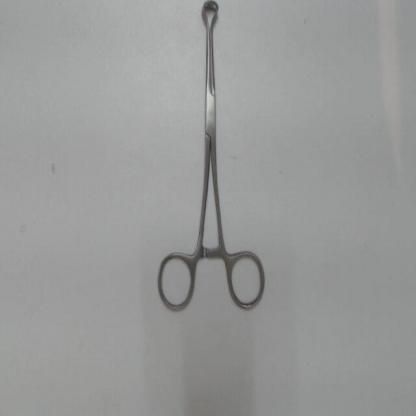Babcock Tissue Forceps: (154, 1, 268, 318)
